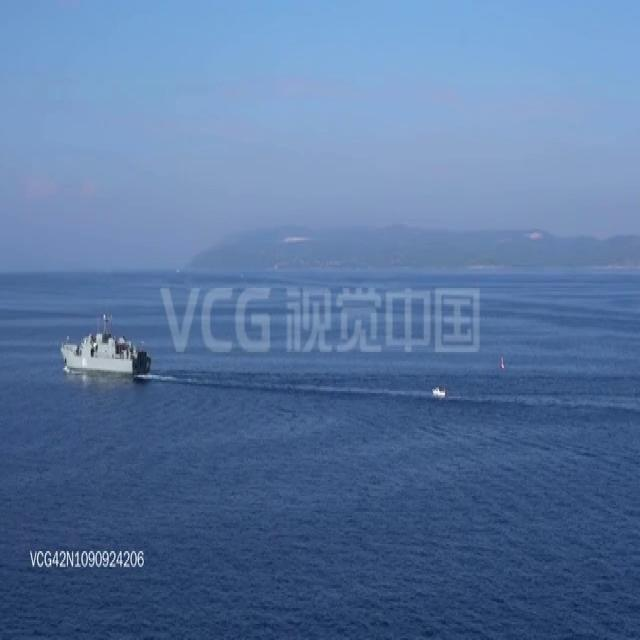houseboat: (430, 385, 446, 399)
navalvessels: (56, 310, 146, 378)
